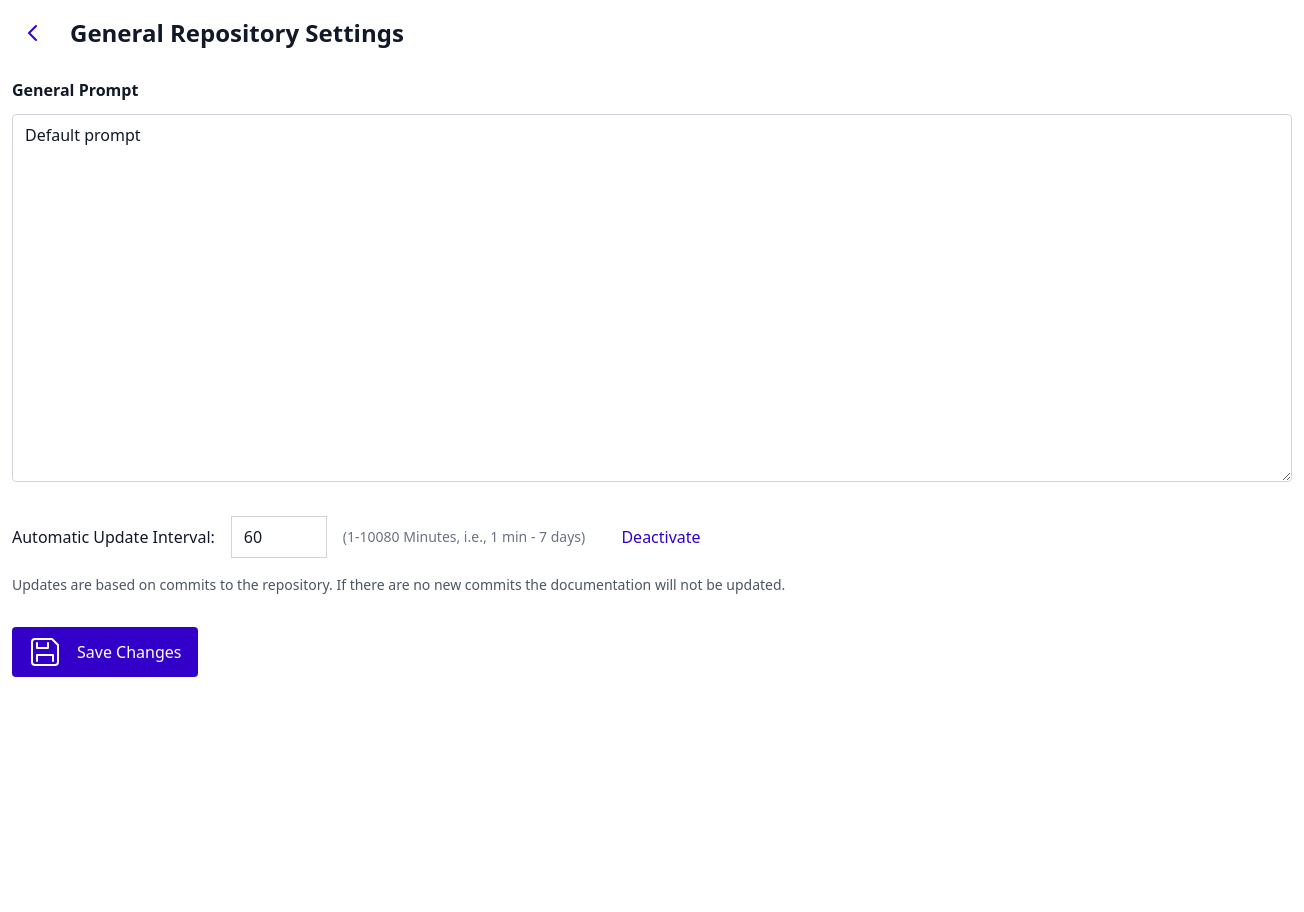
GeneralSetting - unit tests › disables save button for invalid check interval
This screenshot has width=1304, height=912.
Step 1. Clear the number field → (279, 537), box x1=231 y1=516 x2=327 y2=558
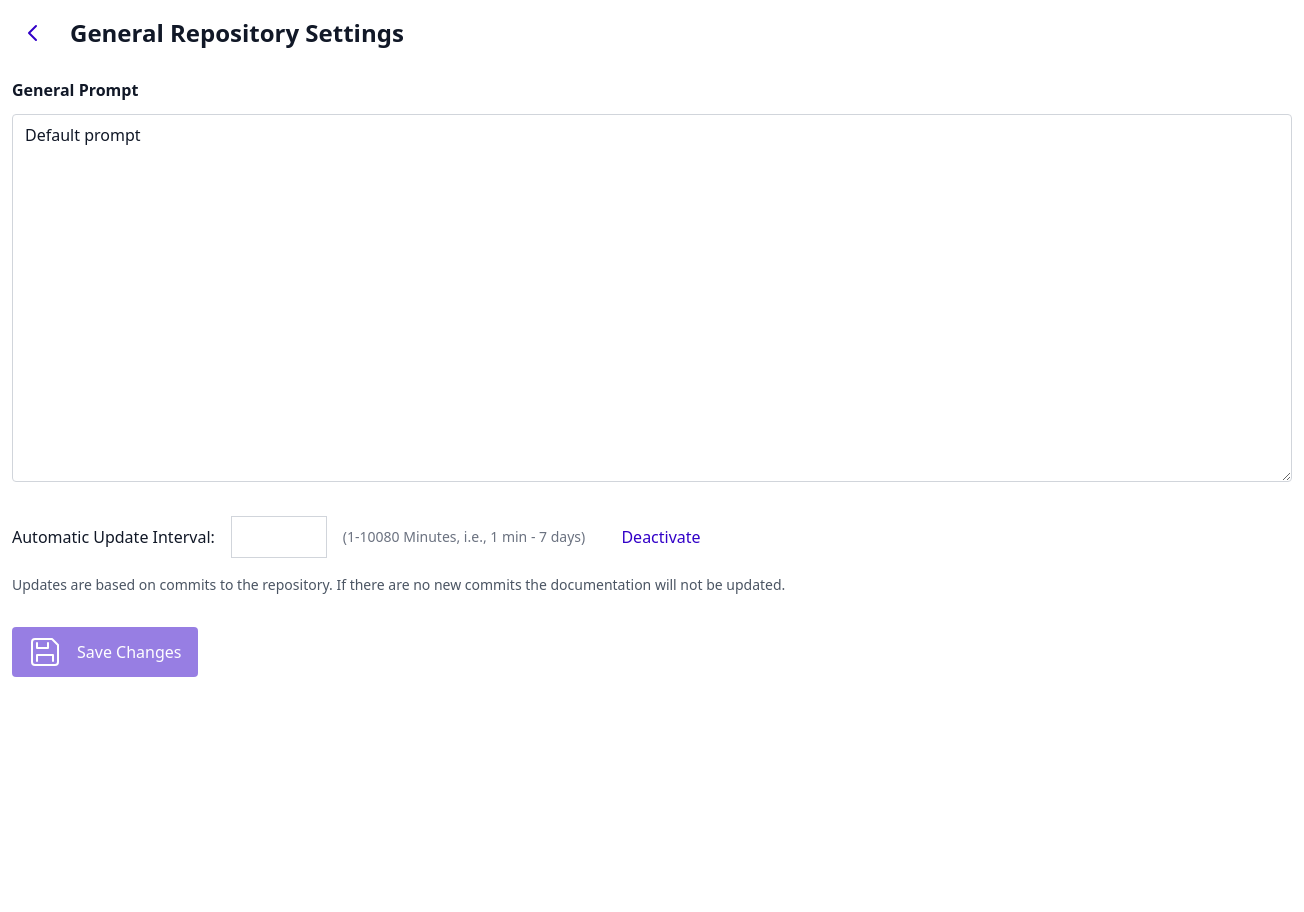
Expected: the button "Save Changes" is disabled, x1=12 y1=627 x2=198 y2=677
